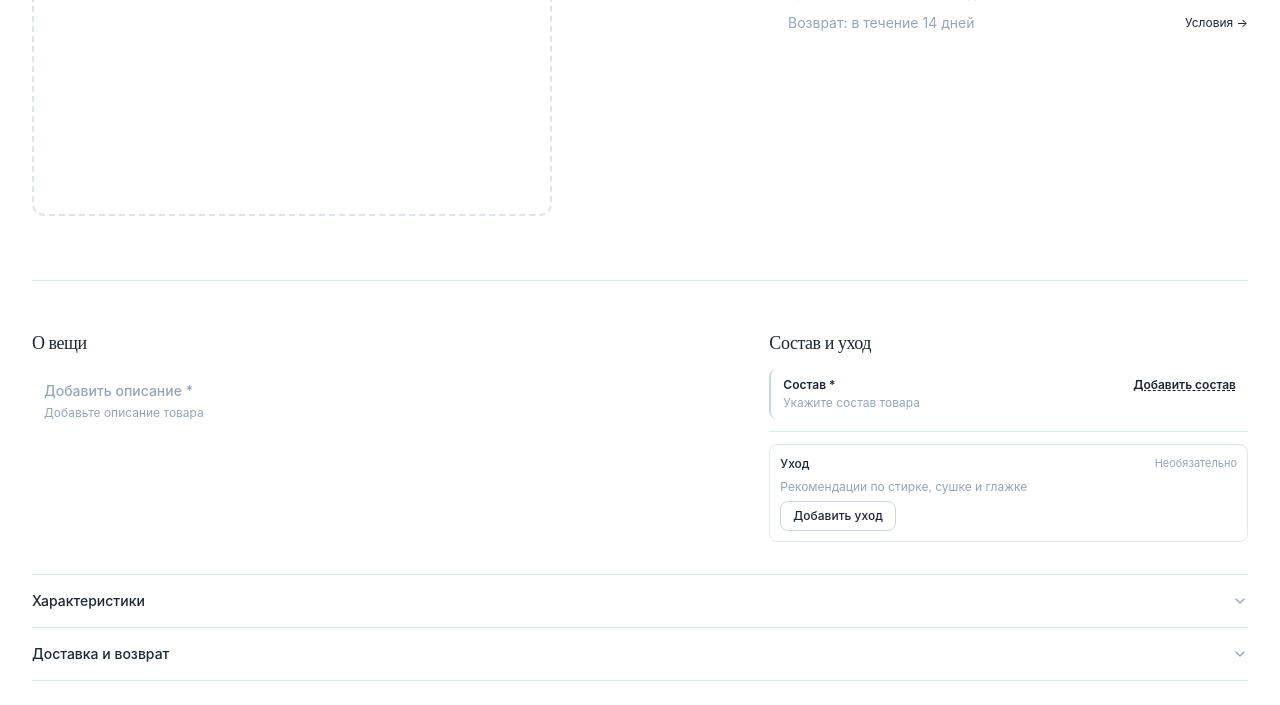
Test: PS.R4A.5B1 — Required Product Content + Canonical Characteristics UX › 4. Canonical Category-Driven Characteristics UX › characteristics are driven by schema attributes and do not show arbitrary + Добавить характеристику
This screenshot has width=1280, height=705.
(page scrolled)
Click the button "Характеристики" at (88, 600), box [32,575,1248,627]
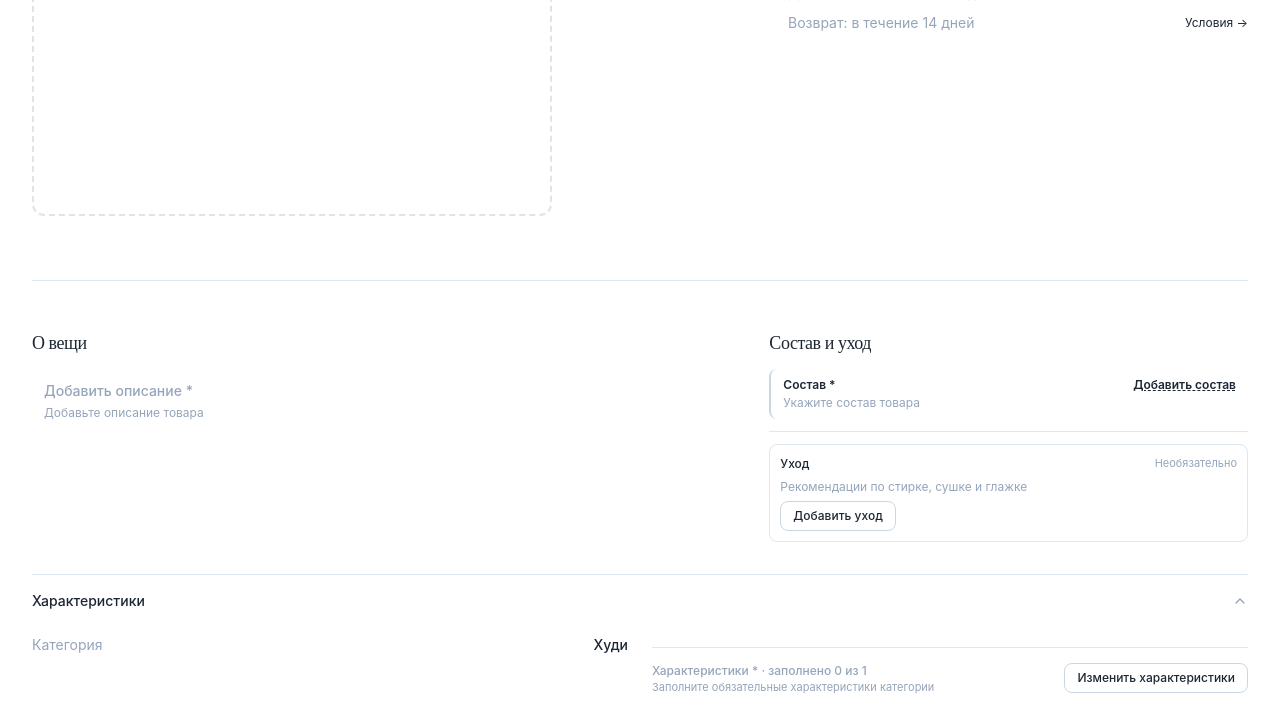
Check: the button with test id "manage-characteristics-btn" is shown, box [1064,663,1248,693]
Check: the text "Характеристики * · заполнено 0 из 1" is shown, box [652,663,867,678]
Check: the text "Заполните обязательные характеристики категории" is shown, box [652,680,934,696]
